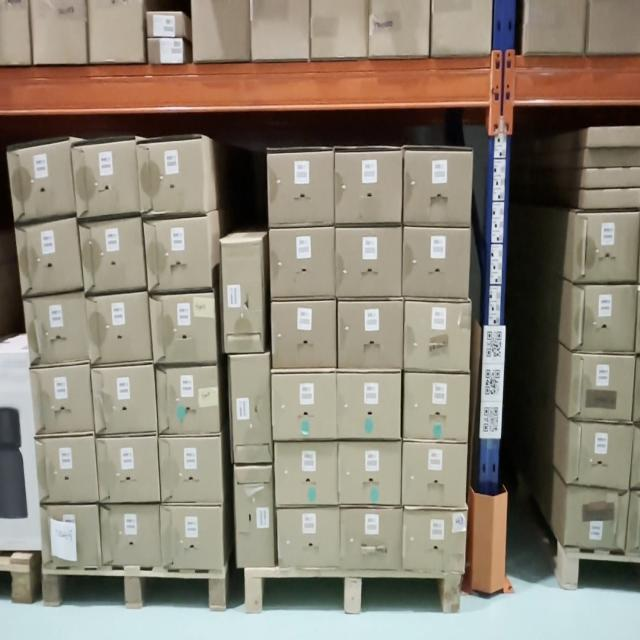box: (0, 353, 40, 552), (15, 217, 84, 296), (405, 150, 468, 226), (269, 150, 332, 225), (24, 295, 89, 366), (337, 150, 401, 222), (30, 362, 94, 434), (222, 242, 263, 351), (142, 138, 202, 212), (15, 138, 70, 218), (338, 300, 402, 368), (80, 140, 136, 217), (35, 436, 98, 504), (576, 213, 636, 284), (403, 230, 469, 294), (269, 231, 335, 295), (273, 300, 336, 367), (406, 302, 468, 370), (148, 222, 211, 288), (337, 231, 401, 295), (155, 293, 214, 362), (338, 372, 399, 438), (86, 219, 141, 292), (39, 505, 102, 568), (404, 377, 469, 438), (162, 506, 223, 570), (96, 368, 157, 431), (100, 434, 157, 501), (404, 443, 464, 506), (158, 368, 218, 431), (404, 511, 467, 570), (573, 288, 636, 347), (277, 443, 336, 505), (163, 438, 221, 501), (234, 356, 268, 463), (340, 443, 400, 503), (238, 466, 273, 568), (274, 377, 335, 435), (570, 425, 632, 482), (574, 356, 630, 419), (278, 510, 340, 566), (91, 298, 148, 358), (342, 510, 400, 568), (103, 504, 158, 565), (569, 490, 624, 548), (588, 170, 640, 185), (585, 149, 640, 163), (590, 128, 640, 142), (585, 193, 640, 205)
